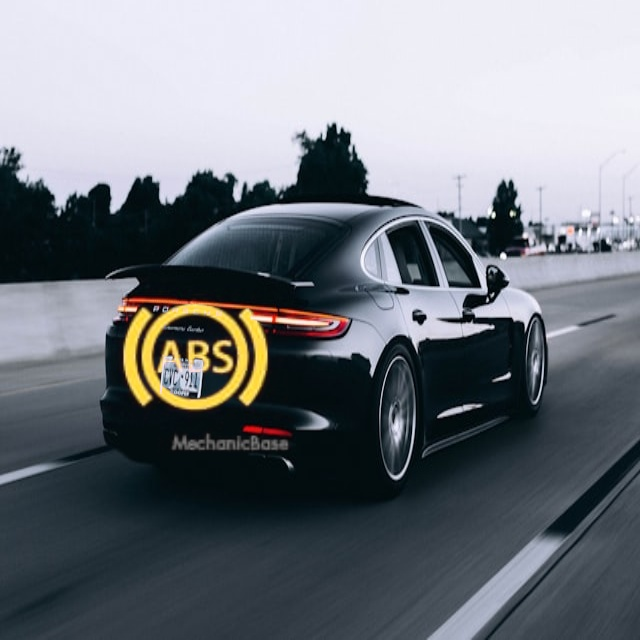symbol: (93, 257, 296, 460)
